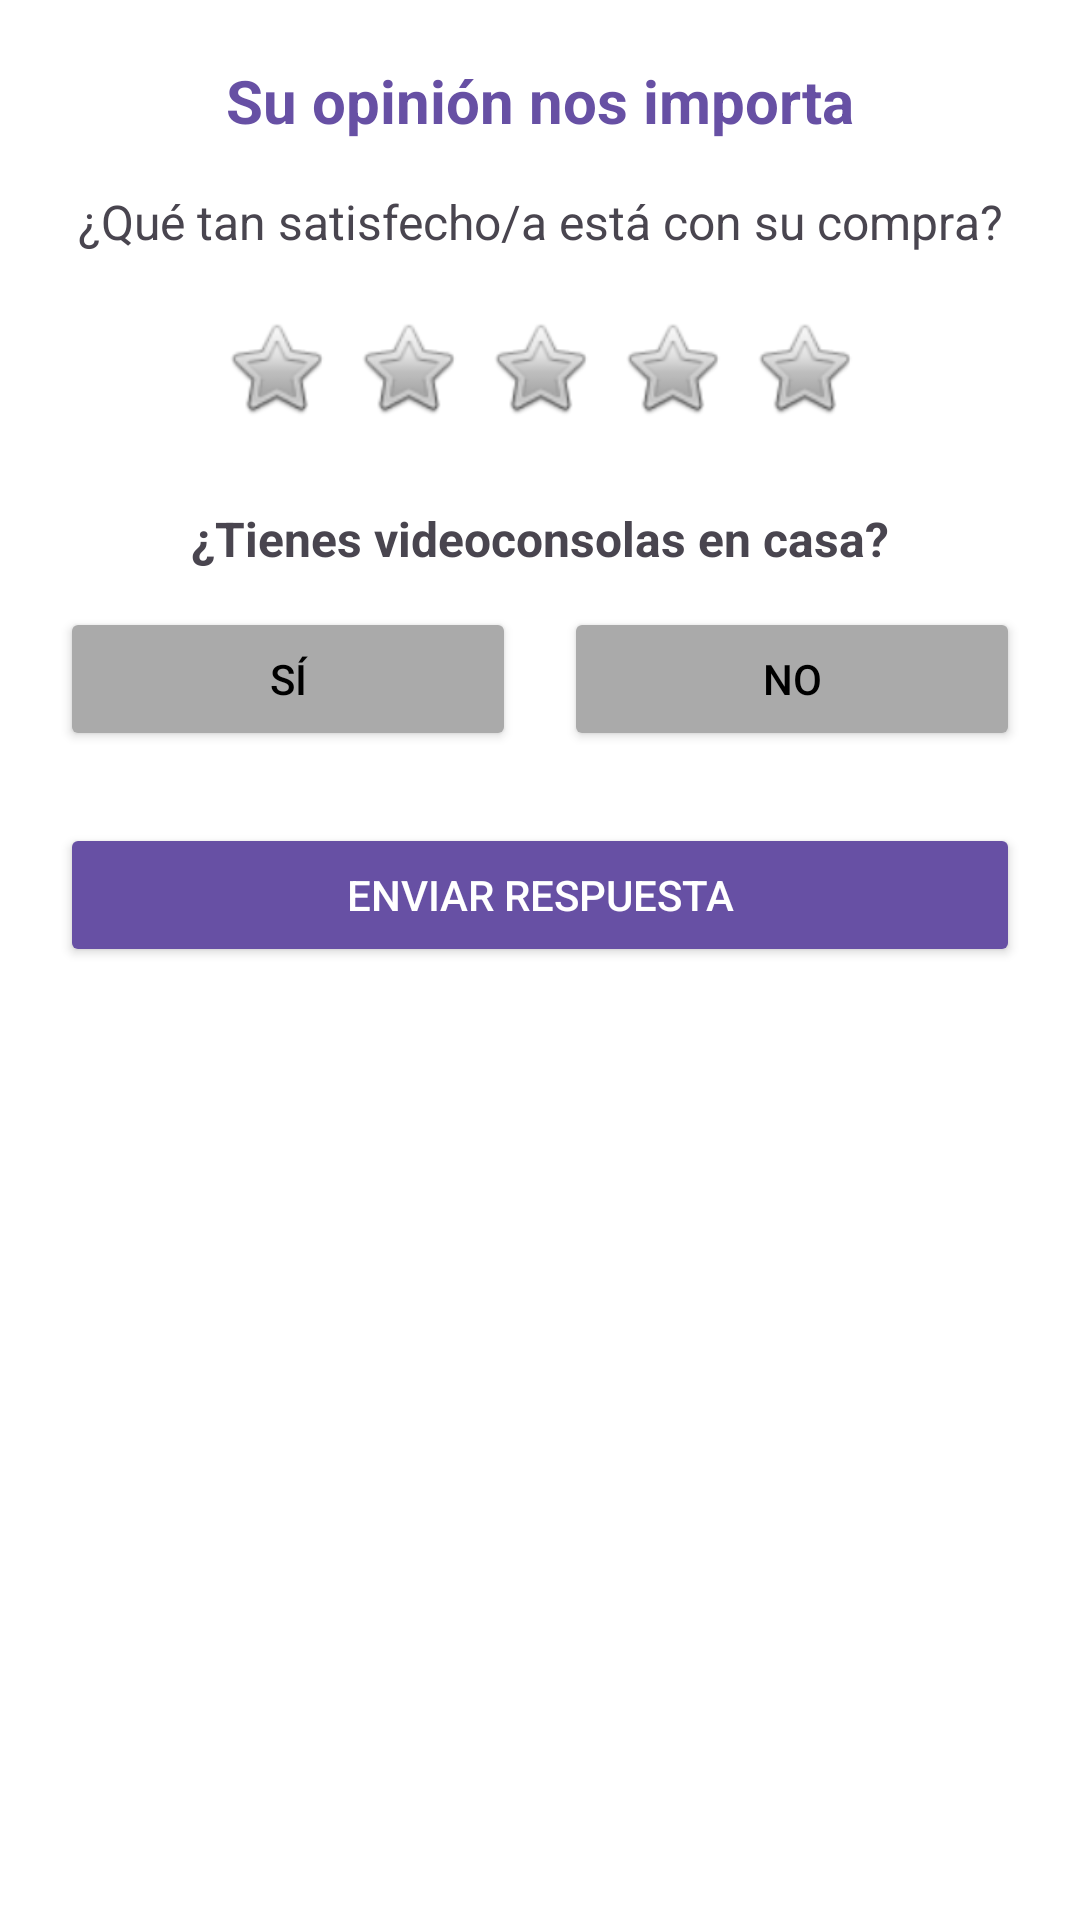

Named icons in this screenshot (1080 × 1920) and their centers, (x=x, y=y):
star off: (x=277, y=369), (x=409, y=369), (x=541, y=369), (x=673, y=369), (x=805, y=369)
